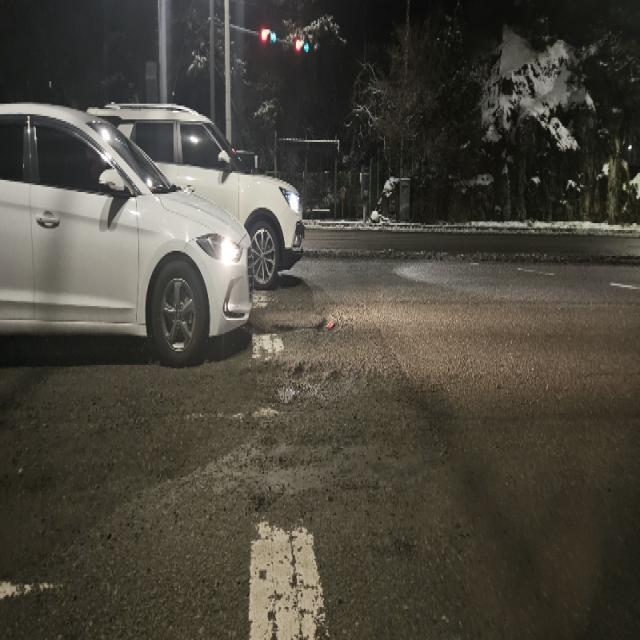pothole: (264, 311, 362, 420)
